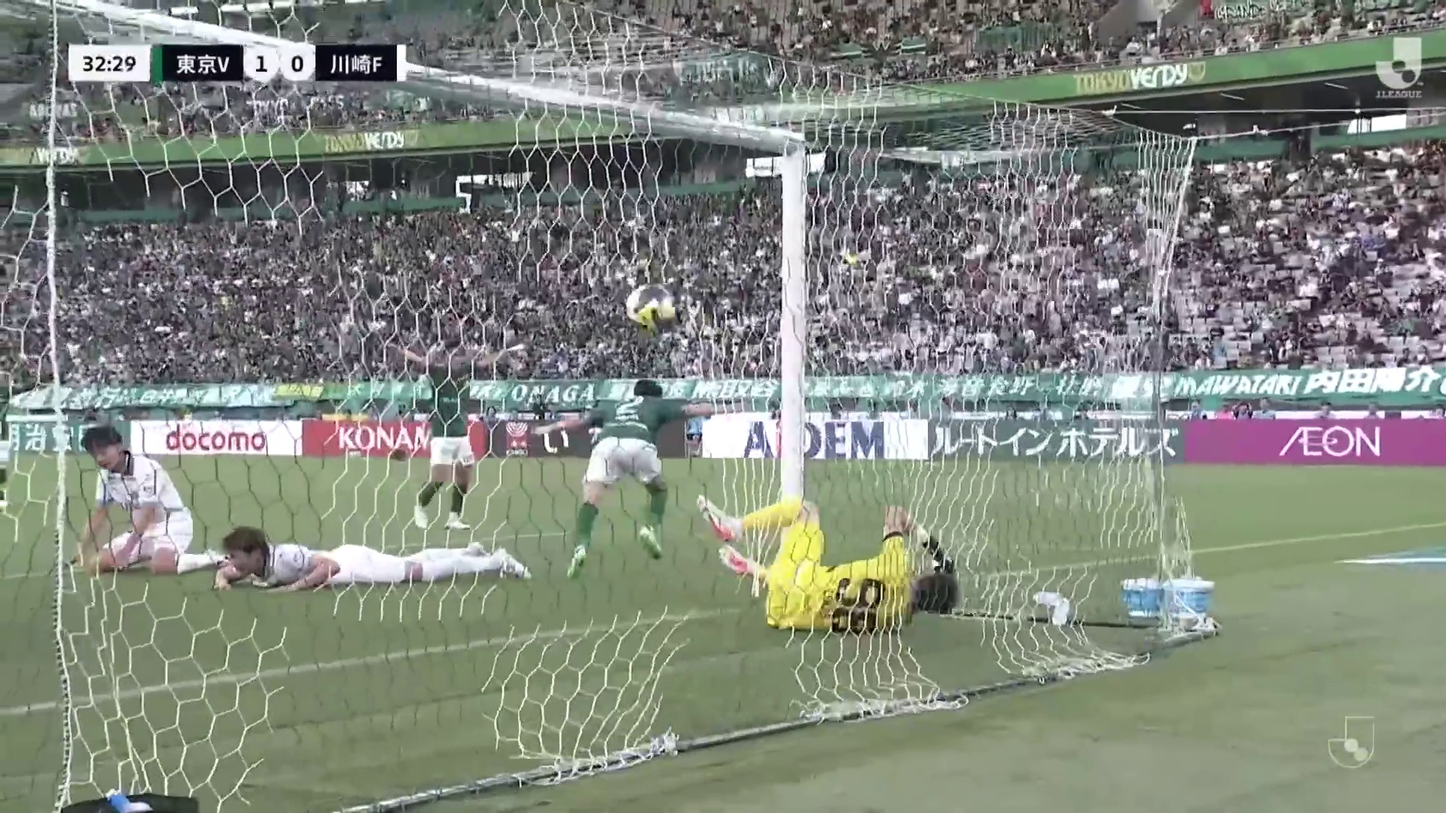ball: (623, 281, 684, 327)
player: (532, 377, 749, 579), (693, 494, 961, 637), (384, 334, 525, 527), (76, 422, 225, 581), (211, 520, 533, 593)
